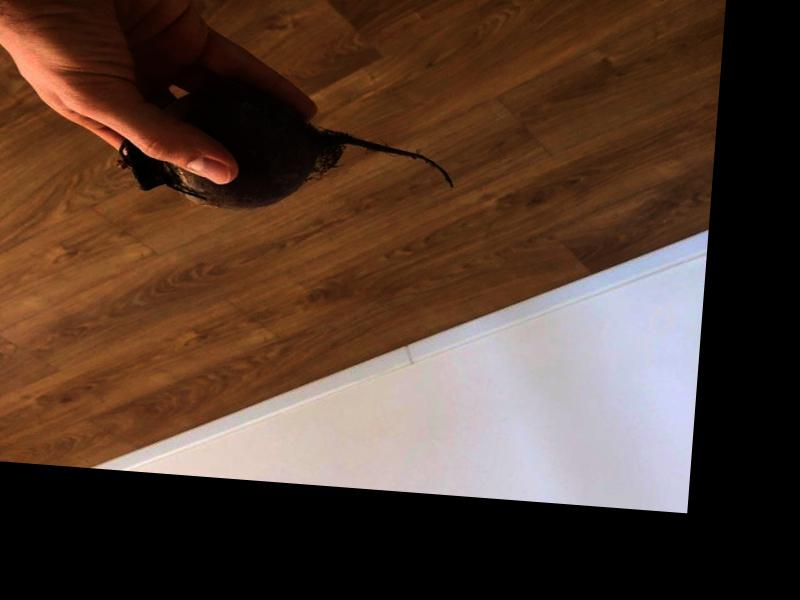Beet: (116, 79, 460, 224)
